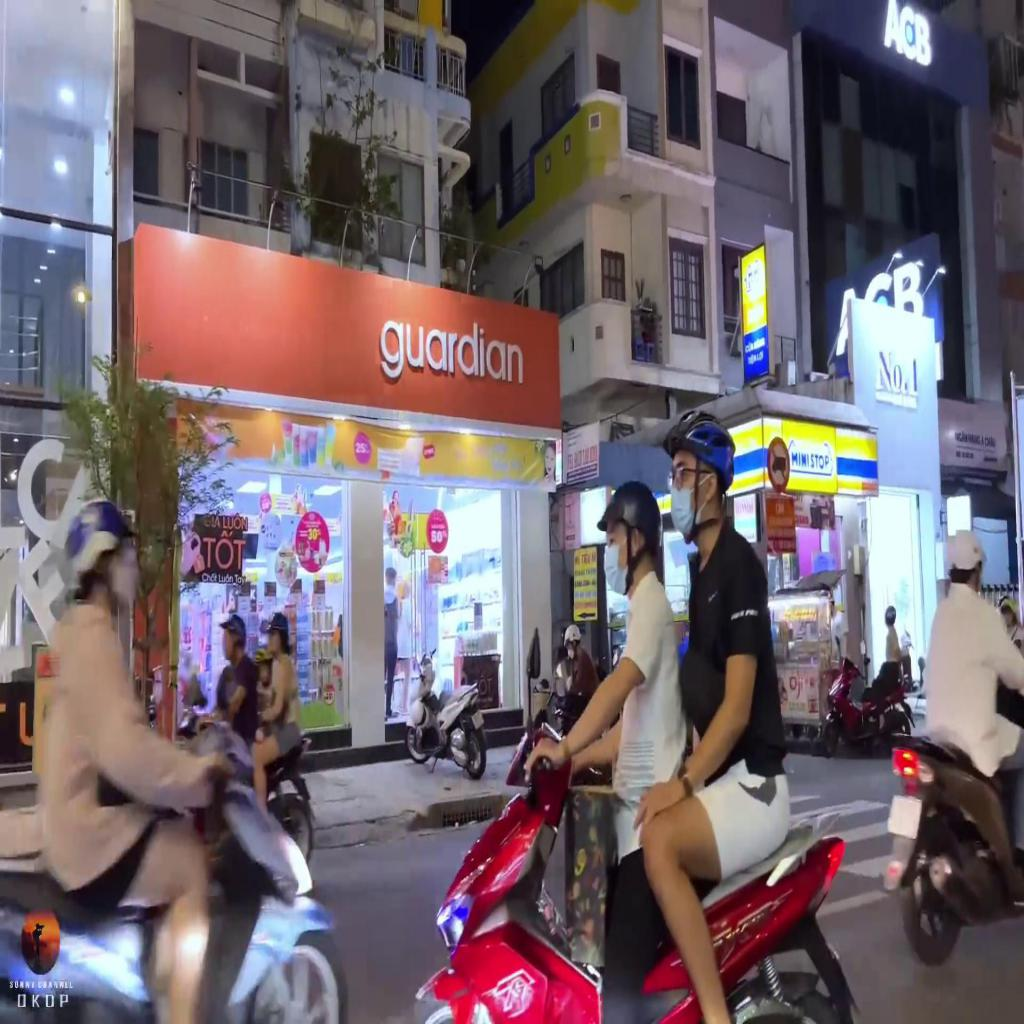cam_o_to_tai: (767, 434, 791, 492)
